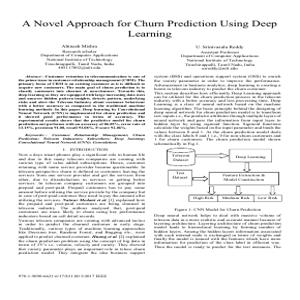diagram: (158, 148, 289, 206)
text: (12, 73, 149, 258), (151, 74, 287, 147), (19, 15, 284, 39), (152, 212, 286, 256), (38, 41, 124, 70), (176, 42, 262, 71)
